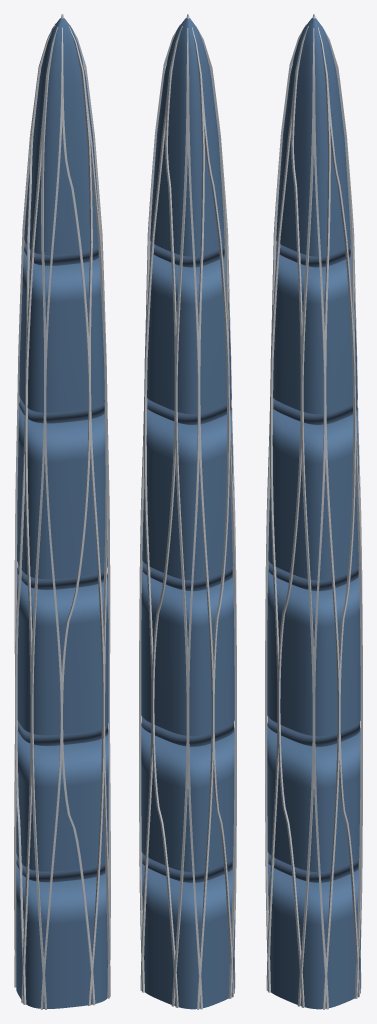
The model's file is ningbo-central-plaza.detail.glb.
3 renders of one model, left to right at view 1: azimuth 30°, elevation 25°; view 2: azimuth 150°, elevation 25°; view 3: azimuth 330°, elevation 25°, orthographic.
Parts seen in each view (by area): view 1: Ningbo Central Plaza; view 2: Ningbo Central Plaza; view 3: Ningbo Central Plaza.
Part boxes in pixels (x1=…): Ningbo Central Plaza: x1=14, y1=14, x2=110, y2=1009; Ningbo Central Plaza: x1=139, y1=14, x2=236, y2=1009; Ningbo Central Plaza: x1=265, y1=14, x2=362, y2=1009.
Bounding box in the file's own units: 37.01 × 410 × 33.08.
